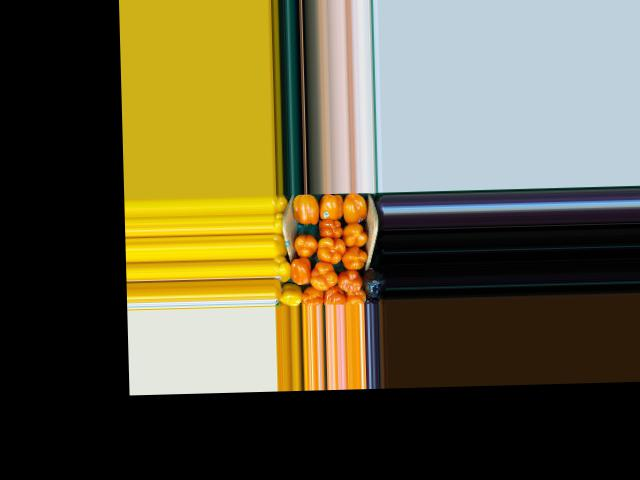bell_pepper: (275, 252, 290, 283)
